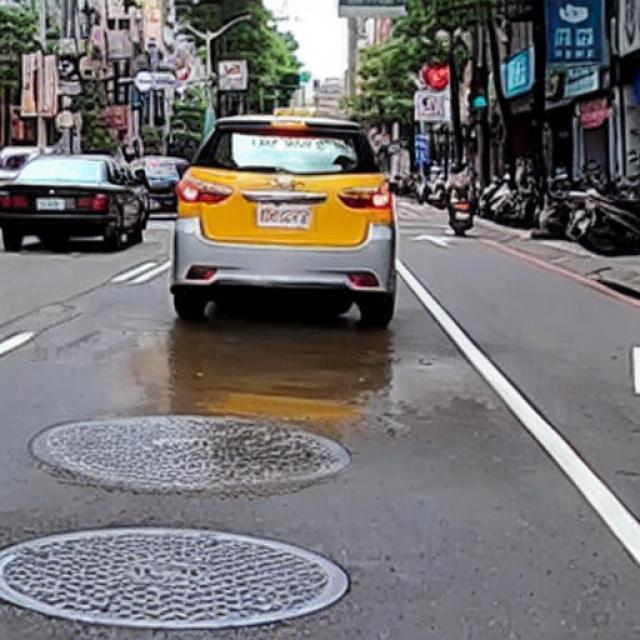puddle: (90, 308, 480, 437)
